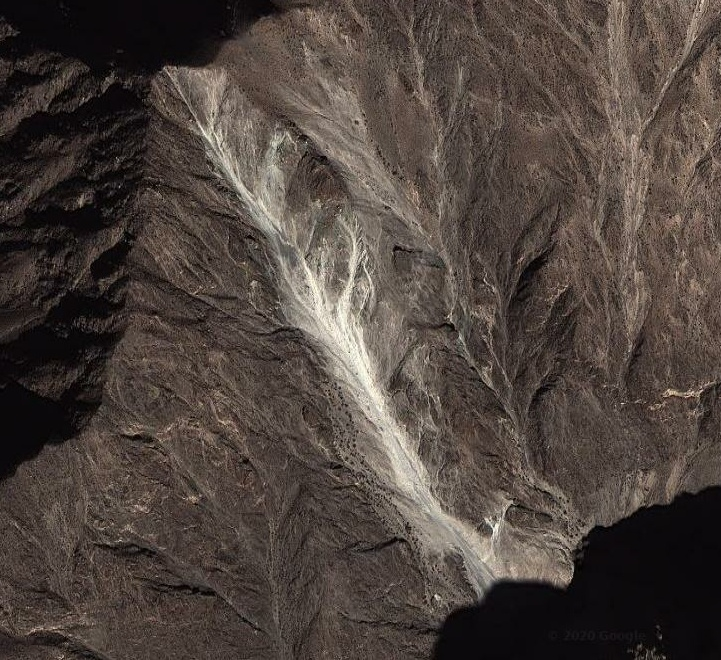slope: (198, 112, 579, 594)
